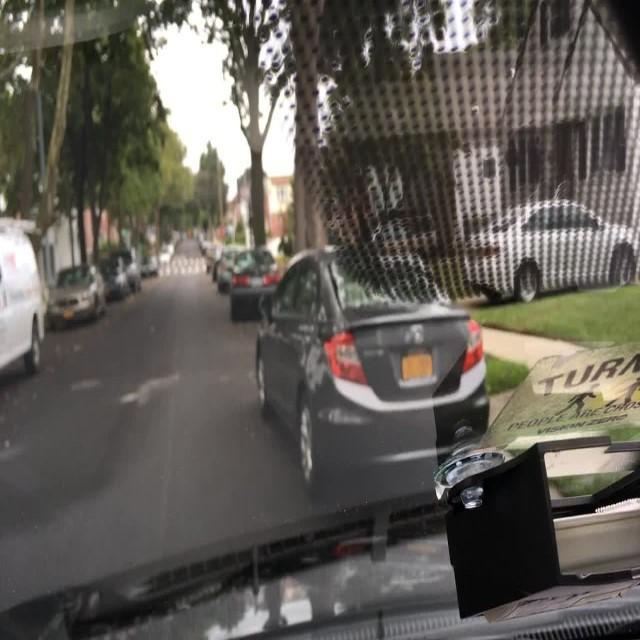normal: (214, 233, 496, 493), (0, 181, 159, 407)
